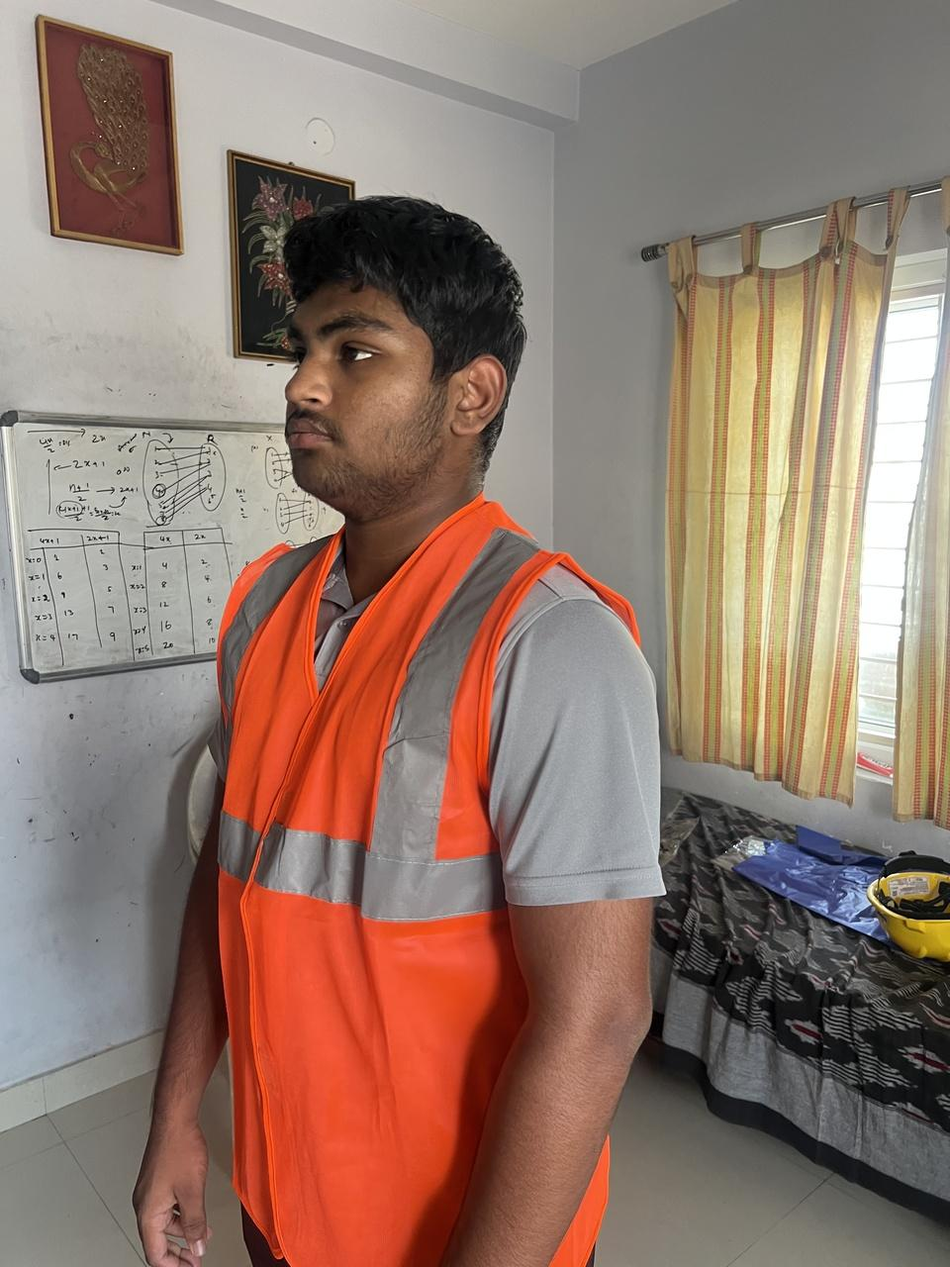No_Helmet: (282, 193, 529, 513)
Person: (132, 194, 666, 1267)
Vest: (206, 495, 666, 1267)
